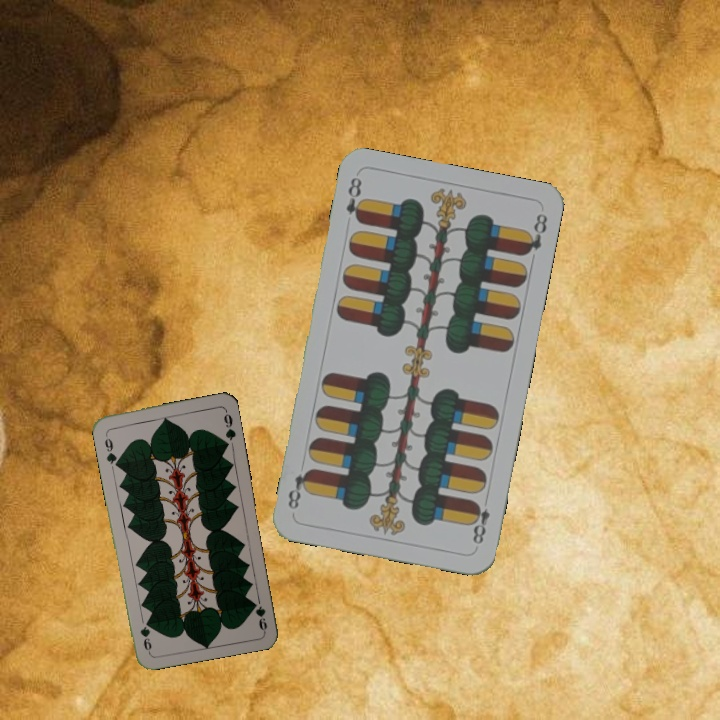E8: (342, 173, 367, 225), (467, 498, 492, 547)
G9: (100, 429, 121, 469), (249, 598, 270, 633)
